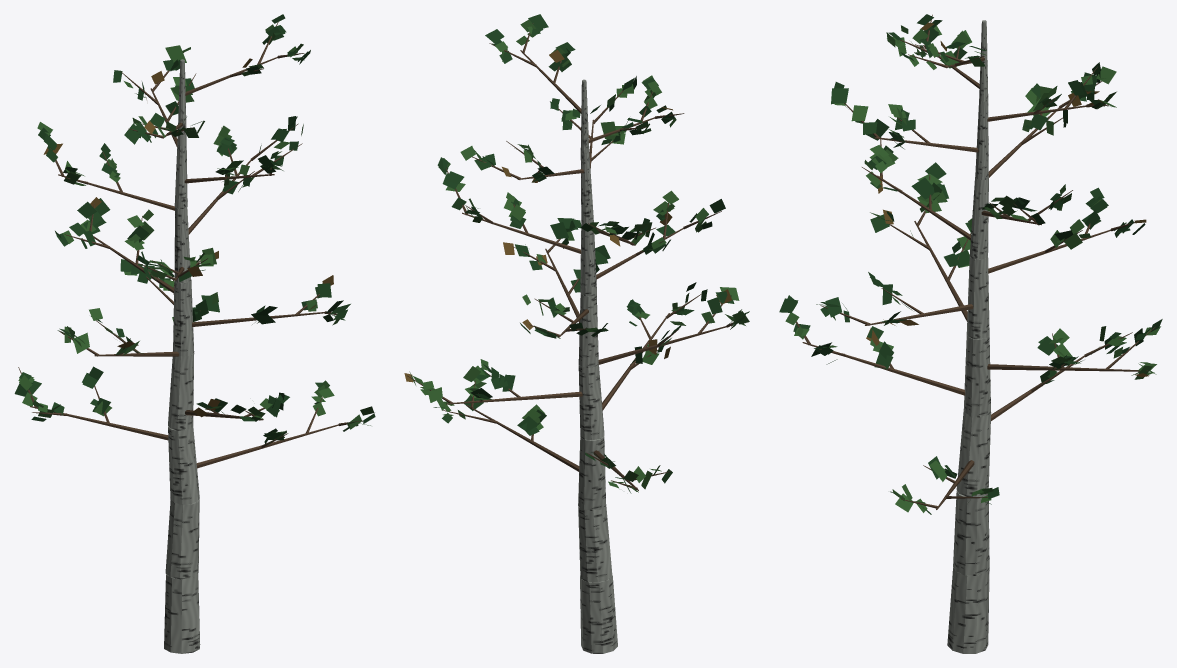
The model's file is detail_birch_lod.glb.
The picture shows the model from 3 angles, left to right: view 1: azimuth 30°, elevation 25°; view 2: azimuth 150°, elevation 25°; view 3: azimuth 270°, elevation 25°; orthographic projection. The views are drawn at different scales.
Parts seen in each view (by area): view 1: IndividualBirchLeaves, BirchTrunk0, BirchTrunk1, BirchTrunk2, BirchTrunk3, BirchTrunk4, BirchTrunk5, BirchTrunk6, BirchLimb0; view 2: IndividualBirchLeaves, BirchTrunk0, BirchTrunk1, BirchTrunk2, BirchTrunk3, BirchTrunk4, BirchTrunk5, BirchTrunk6, BirchTrunk7, BirchLimb3; view 3: IndividualBirchLeaves, BirchTrunk0, BirchTrunk1, BirchTrunk2, BirchTrunk3, BirchTrunk4, BirchTrunk5, BirchTrunk6, BirchLimb2, BirchLimb3, BirchTrunk7.
Part boxes in pixels (x1=…): IndividualBirchLeaves: x1=14, y1=14, x2=375, y2=444; BirchTrunk0: x1=164, y1=573, x2=200, y2=653; BirchTrunk1: x1=165, y1=498, x2=199, y2=579; BirchTrunk2: x1=168, y1=426, x2=199, y2=504; BirchTrunk3: x1=168, y1=352, x2=194, y2=430; BirchTrunk4: x1=173, y1=279, x2=194, y2=356; BirchTrunk5: x1=174, y1=207, x2=190, y2=282; BirchTrunk6: x1=174, y1=134, x2=187, y2=208; BirchLimb0: x1=196, y1=422, x2=345, y2=468; IndividualBirchLeaves: x1=404, y1=14, x2=749, y2=493; BirchTrunk0: x1=580, y1=575, x2=617, y2=653; BirchTrunk1: x1=578, y1=503, x2=612, y2=582; BirchTrunk2: x1=578, y1=436, x2=606, y2=510; BirchTrunk3: x1=578, y1=364, x2=604, y2=440; BirchTrunk4: x1=578, y1=293, x2=598, y2=367; BirchTrunk5: x1=580, y1=223, x2=596, y2=296; BirchTrunk6: x1=580, y1=152, x2=593, y2=224; BirchTrunk7: x1=580, y1=79, x2=589, y2=153; BirchLimb3: x1=446, y1=391, x2=582, y2=404; IndividualBirchLeaves: x1=779, y1=14, x2=1162, y2=514; BirchTrunk0: x1=947, y1=567, x2=989, y2=653; BirchTrunk1: x1=953, y1=490, x2=989, y2=575; BirchTrunk2: x1=956, y1=410, x2=991, y2=496; BirchTrunk3: x1=963, y1=334, x2=990, y2=417; BirchTrunk4: x1=966, y1=256, x2=989, y2=339; BirchTrunk5: x1=969, y1=177, x2=988, y2=259; BirchTrunk6: x1=975, y1=99, x2=988, y2=179; BirchLimb2: x1=802, y1=342, x2=965, y2=395; BirchLimb3: x1=987, y1=364, x2=1137, y2=371; BirchTrunk7: x1=979, y1=20, x2=988, y2=101.
Size of the model in its own units: 5.25 by 10.01 by 5.31.
Materials: 5 (1 with a texture image).
